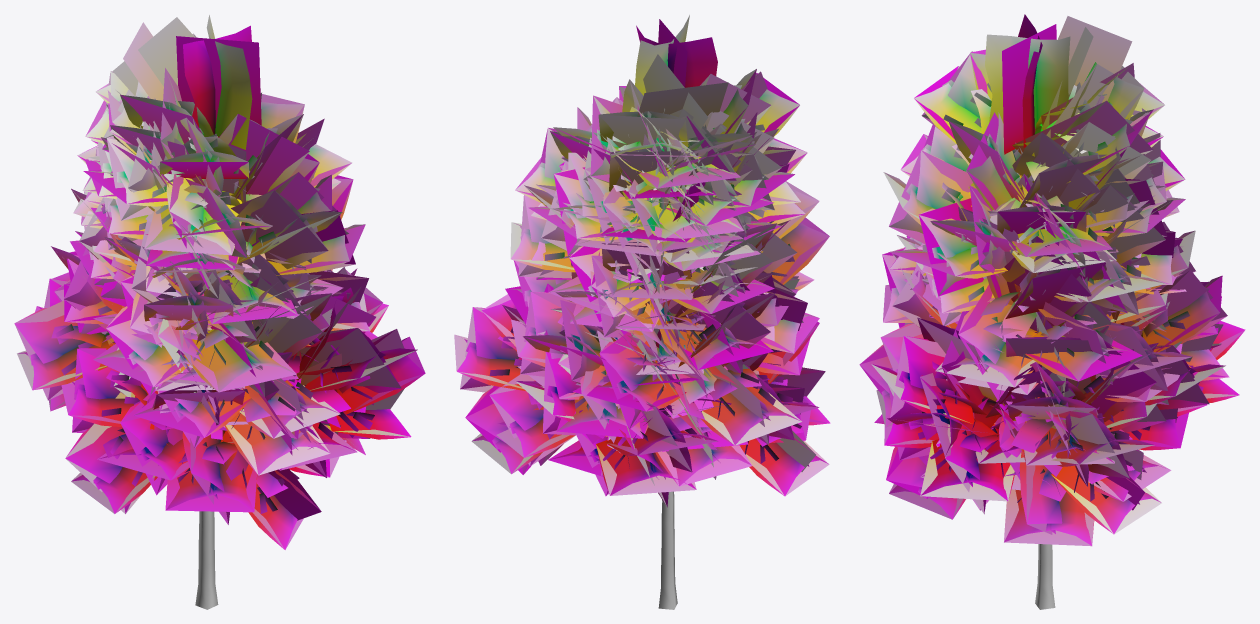
File: pine_01_3.FBX
3 views of the same model, side by side, from view 1: azimuth 30°, elevation 25°; view 2: azimuth 150°, elevation 25°; view 3: azimuth 270°, elevation 25° (orthographic).
Parts seen in each view (by area): view 1: pine_leaves_01_3_lod_0, pine_leaves_01_3_shadow, pine_tree_01_3_lod_0; view 2: pine_leaves_01_3_lod_0, pine_leaves_01_3_shadow, pine_tree_01_3_lod_0; view 3: pine_leaves_01_3_lod_0, pine_leaves_01_3_shadow, pine_tree_01_3_lod_0.
Boxes of the visible parts, x1,y1,x2,y2 form: pine_leaves_01_3_lod_0: [14, 15, 425, 549]; pine_leaves_01_3_shadow: [14, 17, 425, 549]; pine_tree_01_3_lod_0: [195, 136, 218, 609]; pine_leaves_01_3_lod_0: [457, 15, 830, 507]; pine_leaves_01_3_shadow: [454, 19, 829, 505]; pine_tree_01_3_lod_0: [658, 491, 677, 609]; pine_leaves_01_3_lod_0: [859, 14, 1245, 545]; pine_leaves_01_3_shadow: [860, 16, 1244, 546]; pine_tree_01_3_lod_0: [1035, 544, 1055, 609].
Size of what is drawn, in the model's own units: 10.35 by 16.13 by 9.79.
